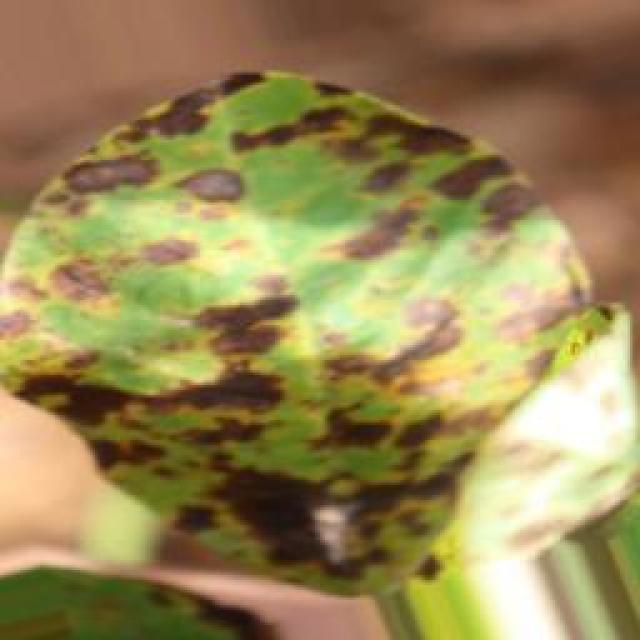Yellowish: (0, 55, 610, 605)
